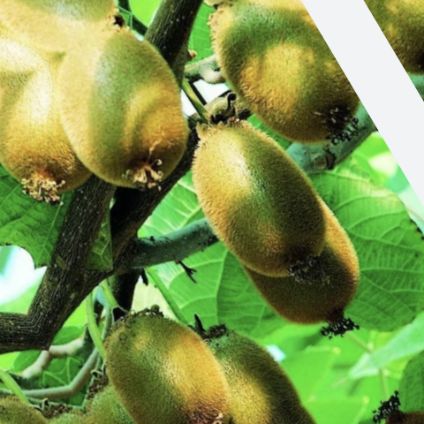kiwi: (147, 79, 364, 314), (174, 0, 407, 200), (27, 0, 241, 213), (72, 281, 260, 424)
